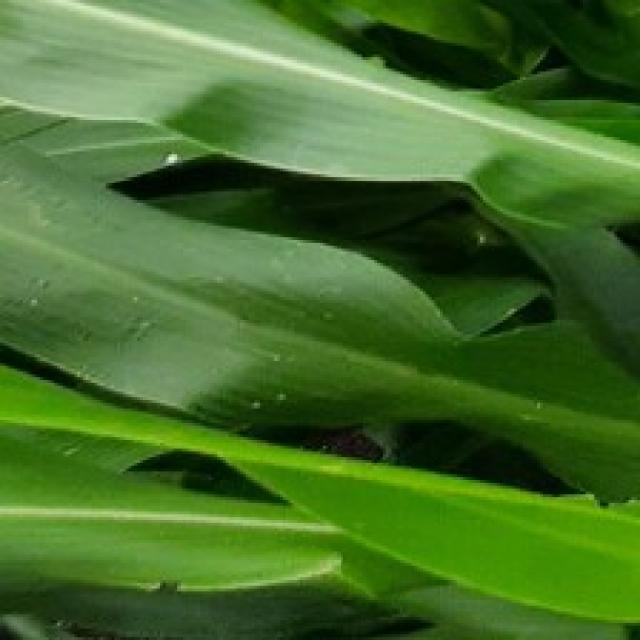Corn: (0, 0, 637, 637), (0, 334, 637, 637)
